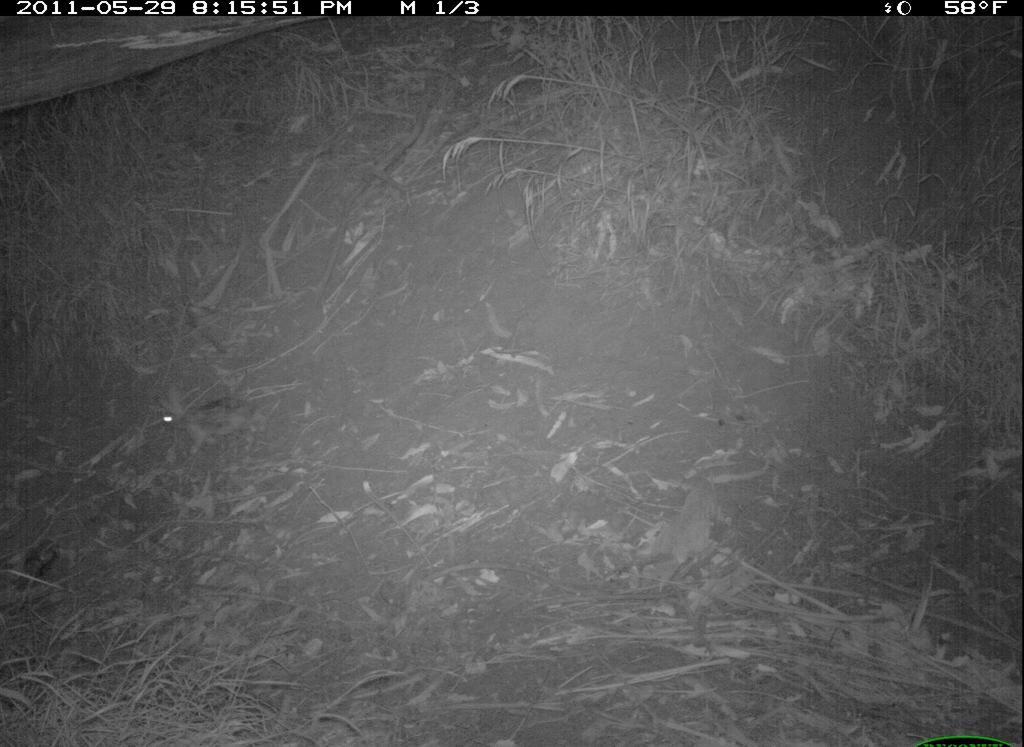rabbit: (153, 379, 266, 467)
